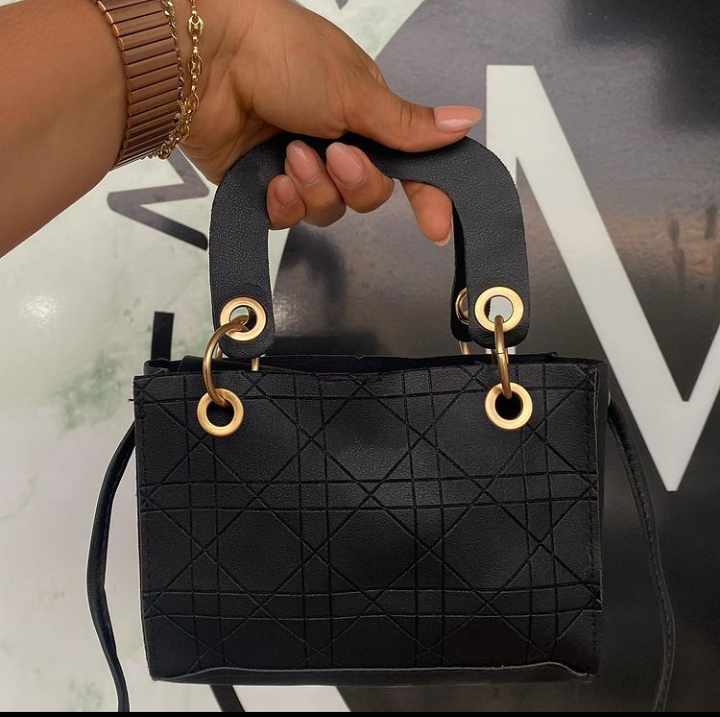cartera: (128, 122, 607, 689)
cuero: (171, 443, 569, 618)
